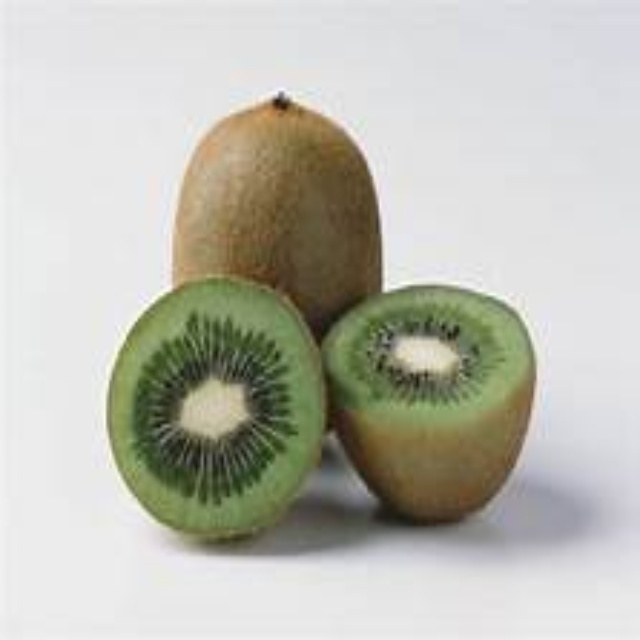kiwi: (109, 277, 325, 541), (173, 93, 383, 328), (328, 284, 530, 527)
